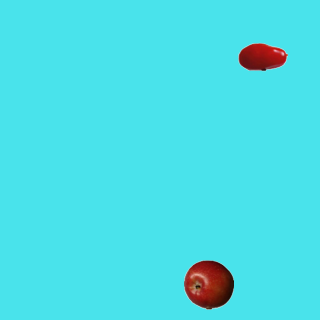Apple Braeburn: (183, 259, 233, 309)
Tomato 2: (237, 31, 287, 81)
